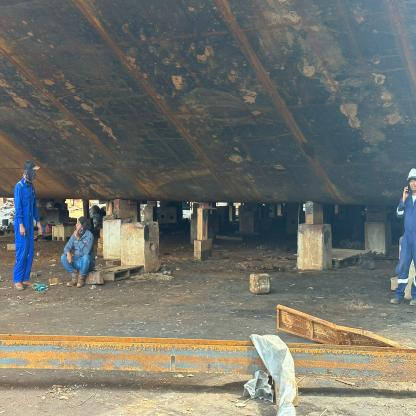bota: (65, 272, 79, 286), (77, 272, 87, 287), (390, 294, 404, 304), (408, 294, 416, 306), (14, 281, 24, 290), (23, 279, 33, 286)
